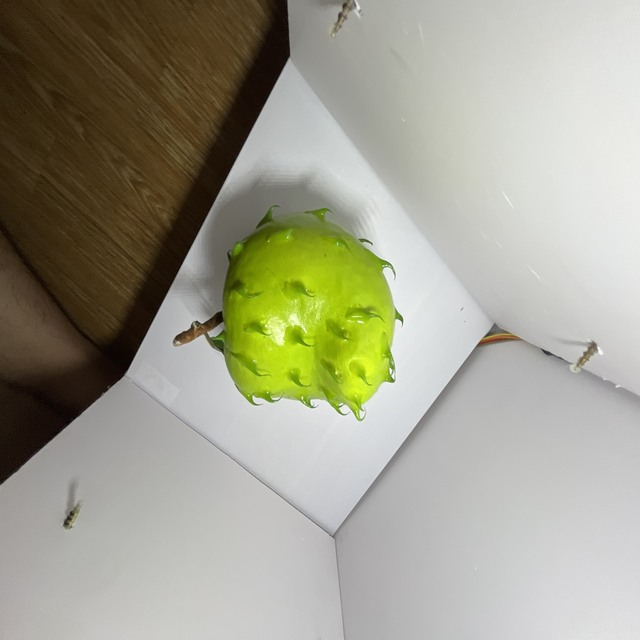Man cau: (213, 203, 409, 424)
